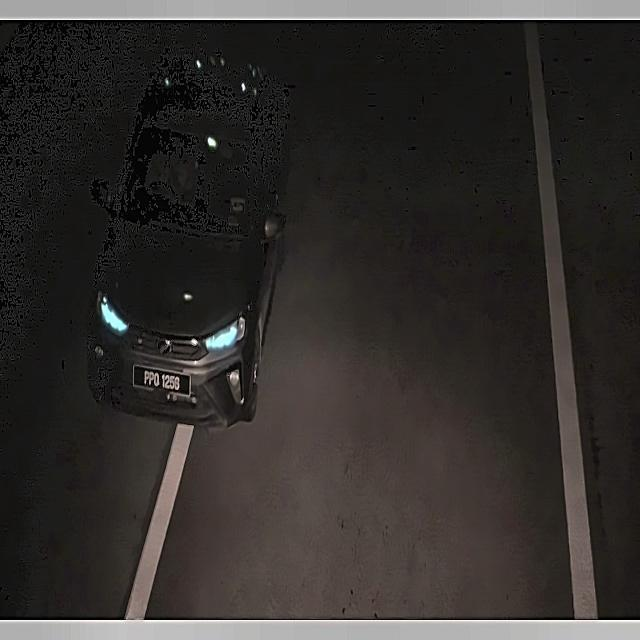car: (132, 361, 188, 400)
